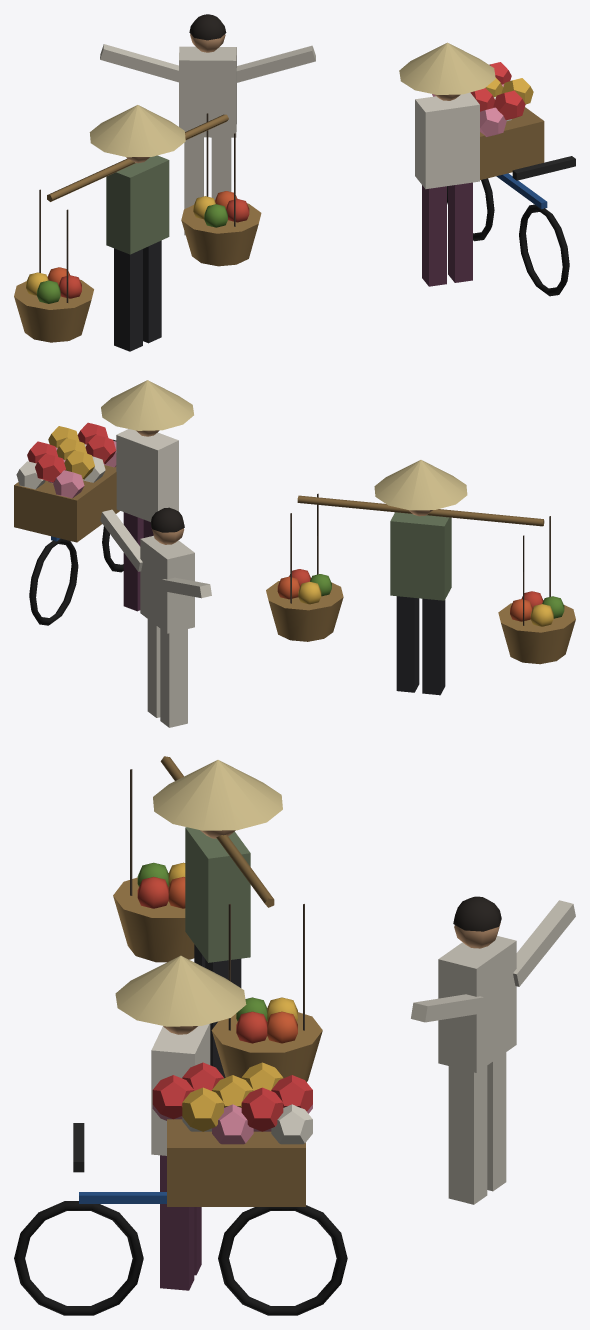
The model's file is hanoi_street_people.glb.
The picture shows the model from 3 angles, top to bottom: view 1: azimuth 30°, elevation 25°; view 2: azimuth 150°, elevation 25°; view 3: azimuth 270°, elevation 25°; orthographic projection. The views are drawn at different scales.
Parts seen in each view (by area): view 1: HanoiStreetPeople_mat0; view 2: HanoiStreetPeople_mat0; view 3: HanoiStreetPeople_mat0.
Boxes of the visible parts, x1,y1,x2,y2 form: HanoiStreetPeople_mat0: (14,14,575,351); HanoiStreetPeople_mat0: (14,380,575,727); HanoiStreetPeople_mat0: (14,756,575,1315).
Size of the model in its own units: 4.42 by 1.91 by 3.03.
